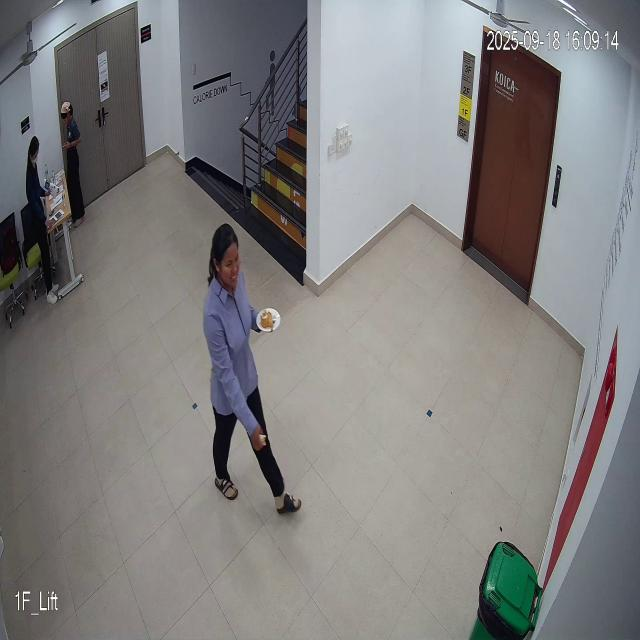face: (210, 222, 245, 294)
